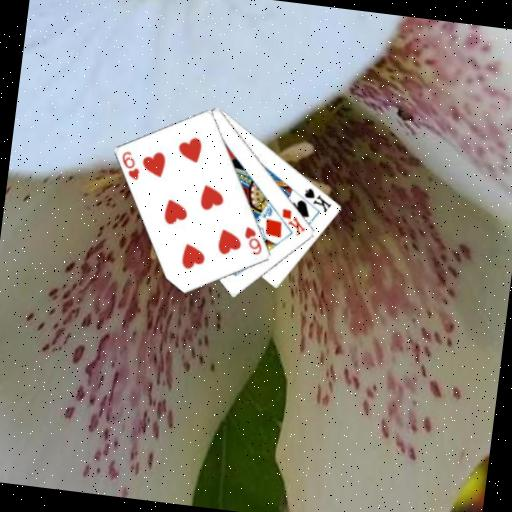6H: (239, 223, 266, 258), (117, 148, 144, 183)
KD: (277, 205, 310, 238)
KS: (300, 184, 336, 215)
